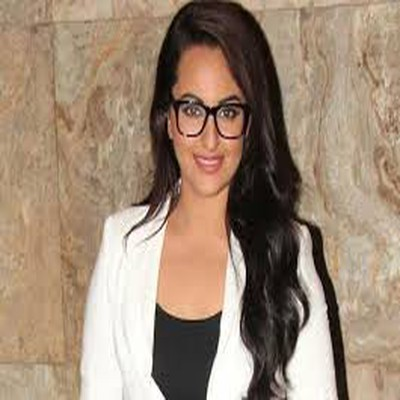eywear: (159, 86, 270, 155)
